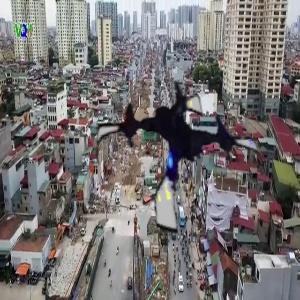drone: (93, 72, 269, 248)
